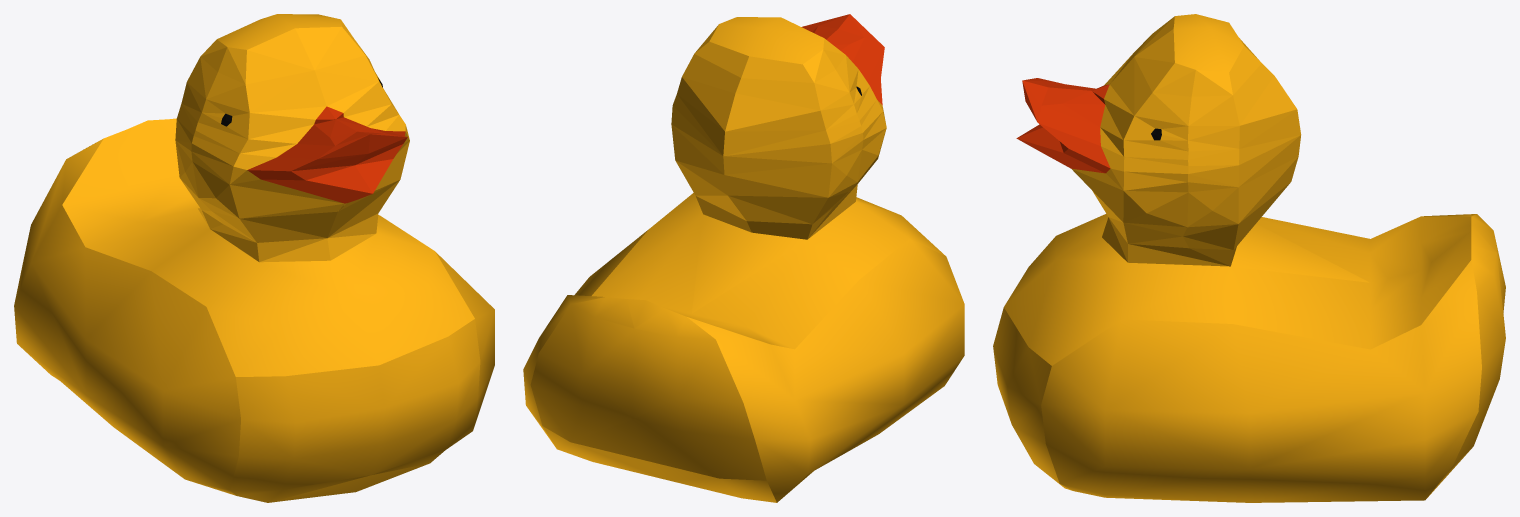
The model's file is duck.FBX.
The picture shows the model from 3 angles, left to right: view 1: azimuth 30°, elevation 25°; view 2: azimuth 150°, elevation 25°; view 3: azimuth 270°, elevation 25°; orthographic projection. The views are drawn at different scales.
Parts seen in each view (by area): view 1: Box003; view 2: Box003; view 3: Box003.
Part boxes in pixels (<box>): Box003: <box>14,14,494,502</box>; Box003: <box>523,14,964,502</box>; Box003: <box>993,14,1505,502</box>.
Bounding box in the file's own units: 33.09 × 42.49 × 39.77.
